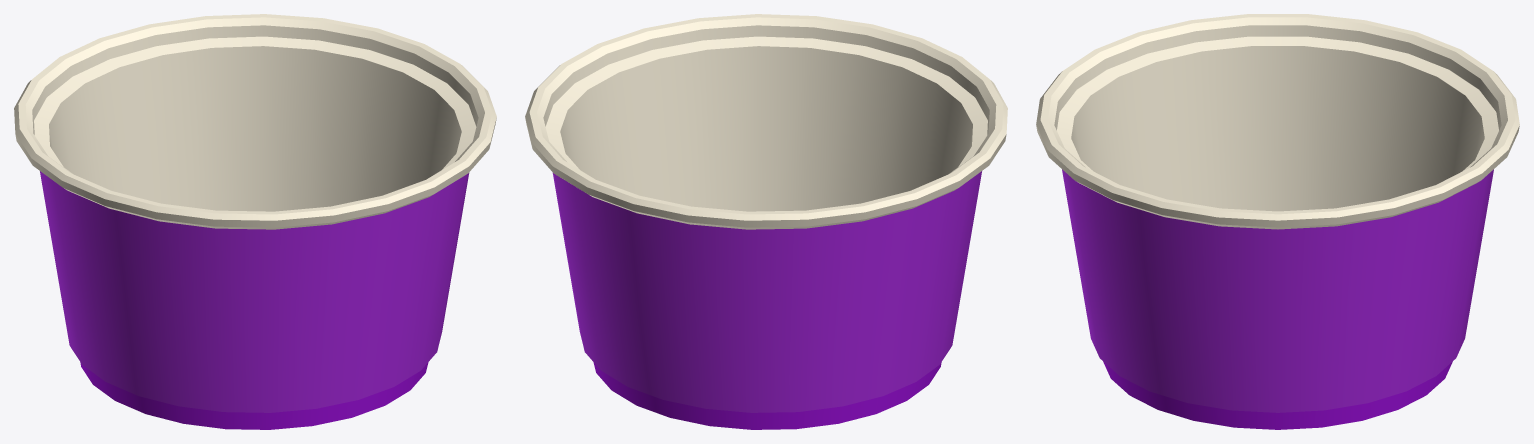
The model's file is Cup S Purple.fbx.
3 views of the same model, side by side, from view 1: azimuth 30°, elevation 25°; view 2: azimuth 150°, elevation 25°; view 3: azimuth 270°, elevation 25° (orthographic).
Visible parts, largest first — view 1: Cup S Purple; view 2: Cup S Purple; view 3: Cup S Purple.
Part boxes in pixels (x1=…): Cup S Purple: x1=14, y1=14, x2=496, y2=429; Cup S Purple: x1=525, y1=14, x2=1007, y2=429; Cup S Purple: x1=1036, y1=14, x2=1519, y2=429.
Size of the model in its own units: 0.7531 by 0.4164 by 0.7546.
